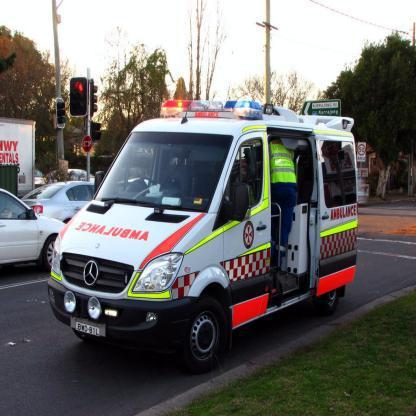Ambulance - v1 Ambulance last generate: (48, 85, 360, 374)
